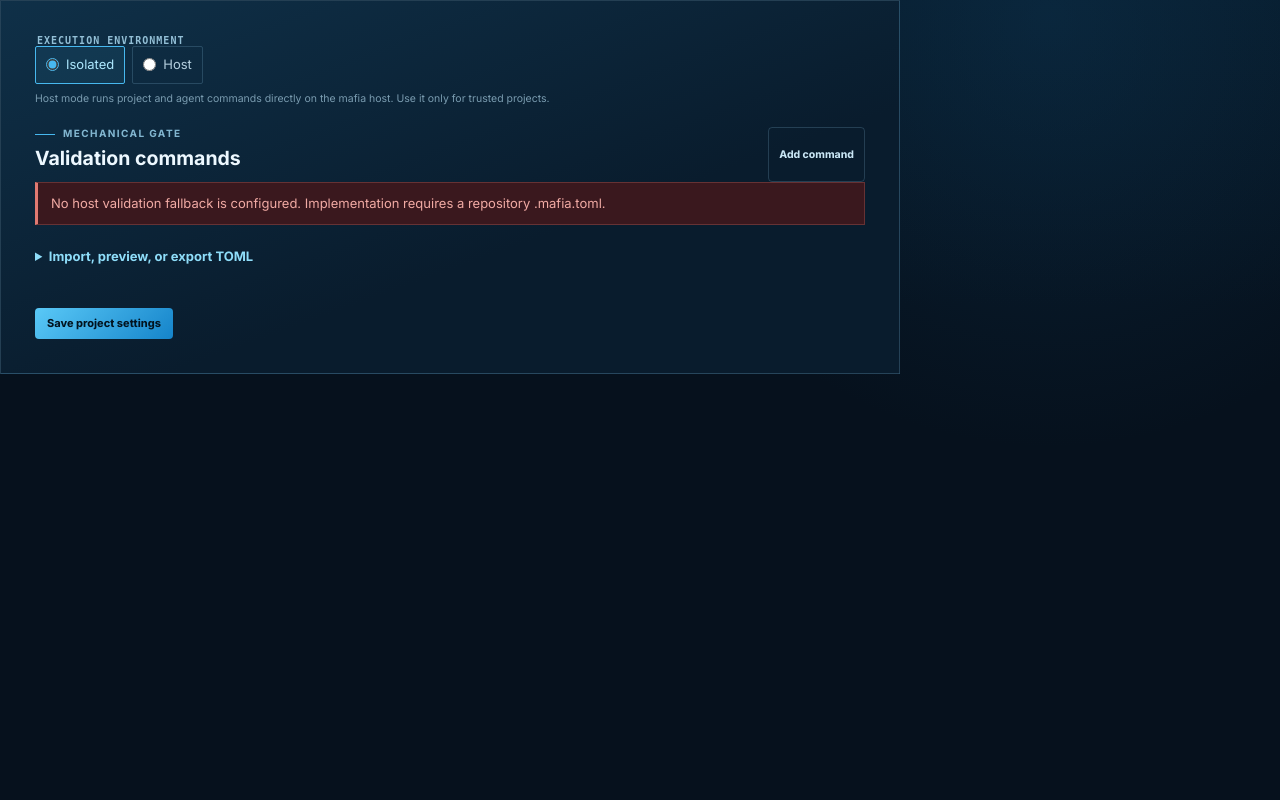
ProjectSettingsForm › rejects timeout 0 before submission
This screenshot has width=1280, height=800.
Click the button "Add command". click: (817, 154)
box: [768,127,865,182]
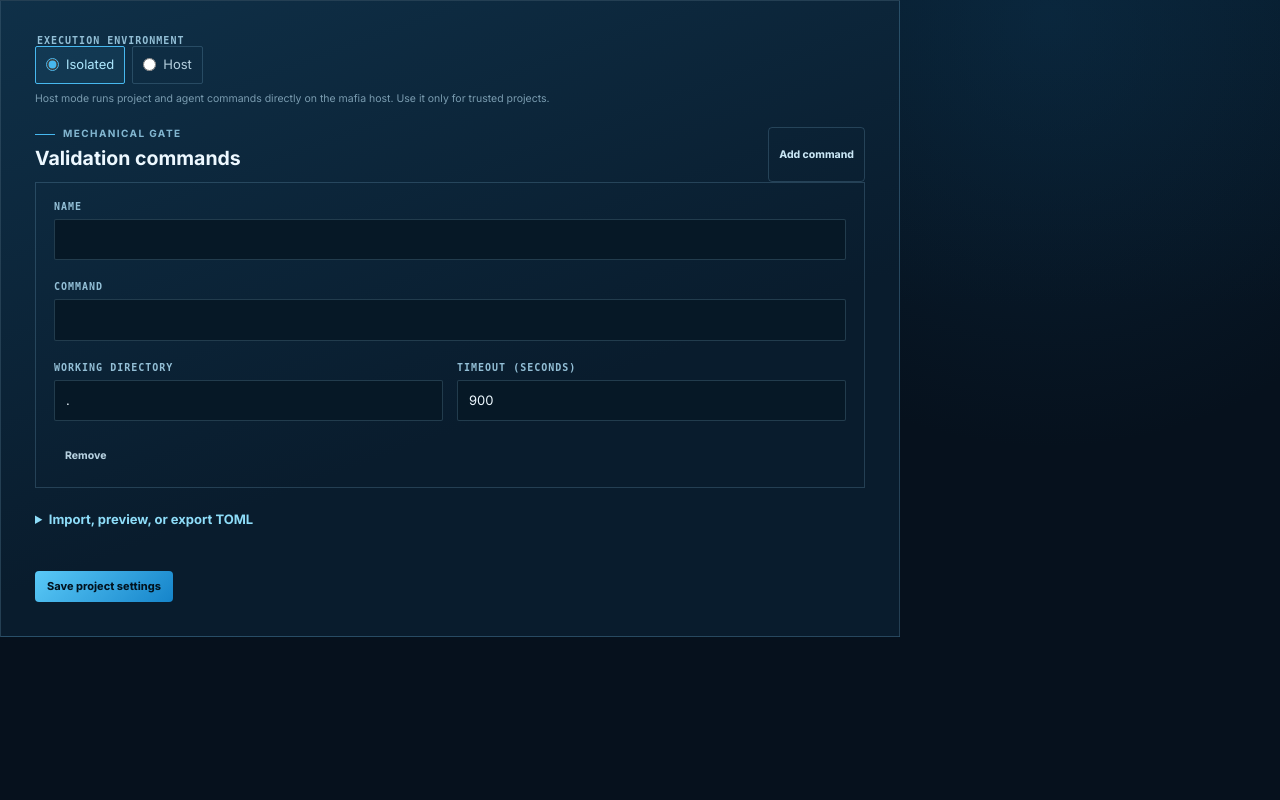
Replace the text in the number field labelled "Timeout (seconds)" with "0". click: (652, 400)
box: [457,380,846,421]
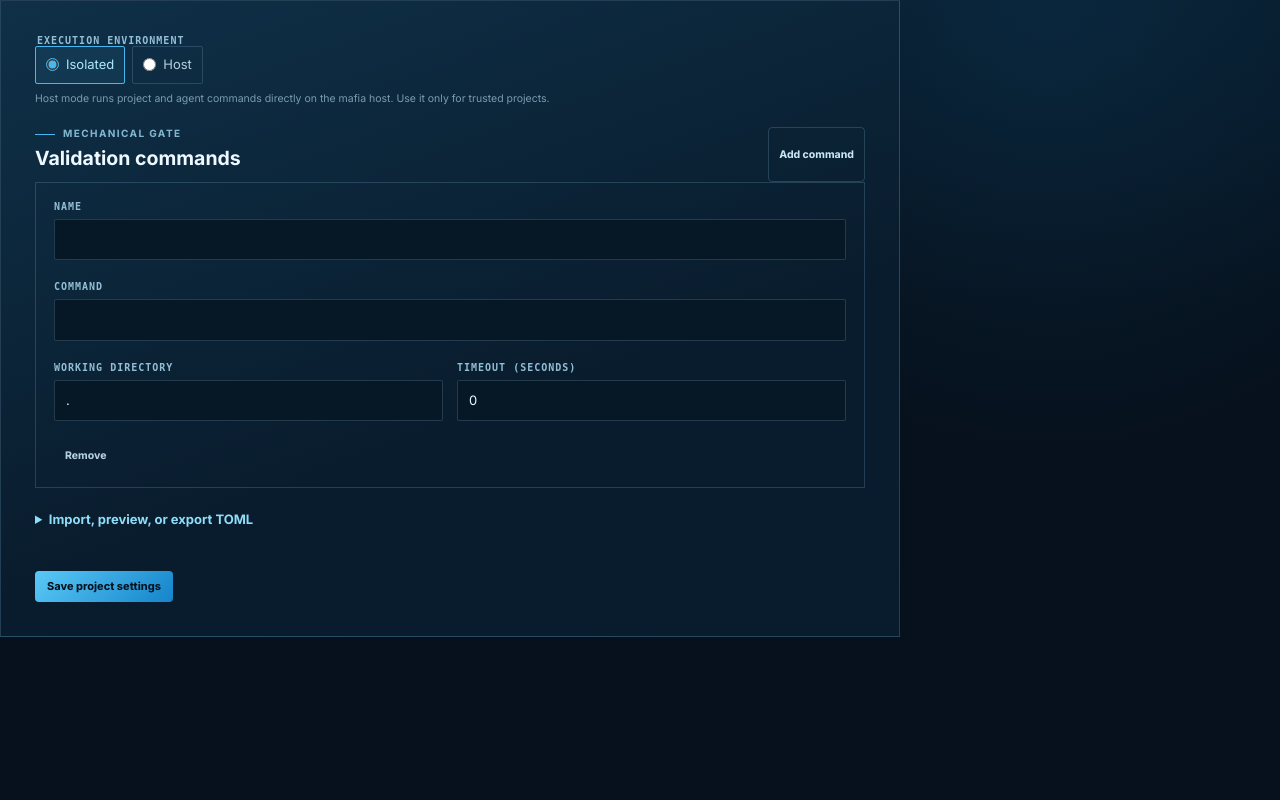
Click the button "Save project settings". click: (104, 586)
box: [35,570,173,602]
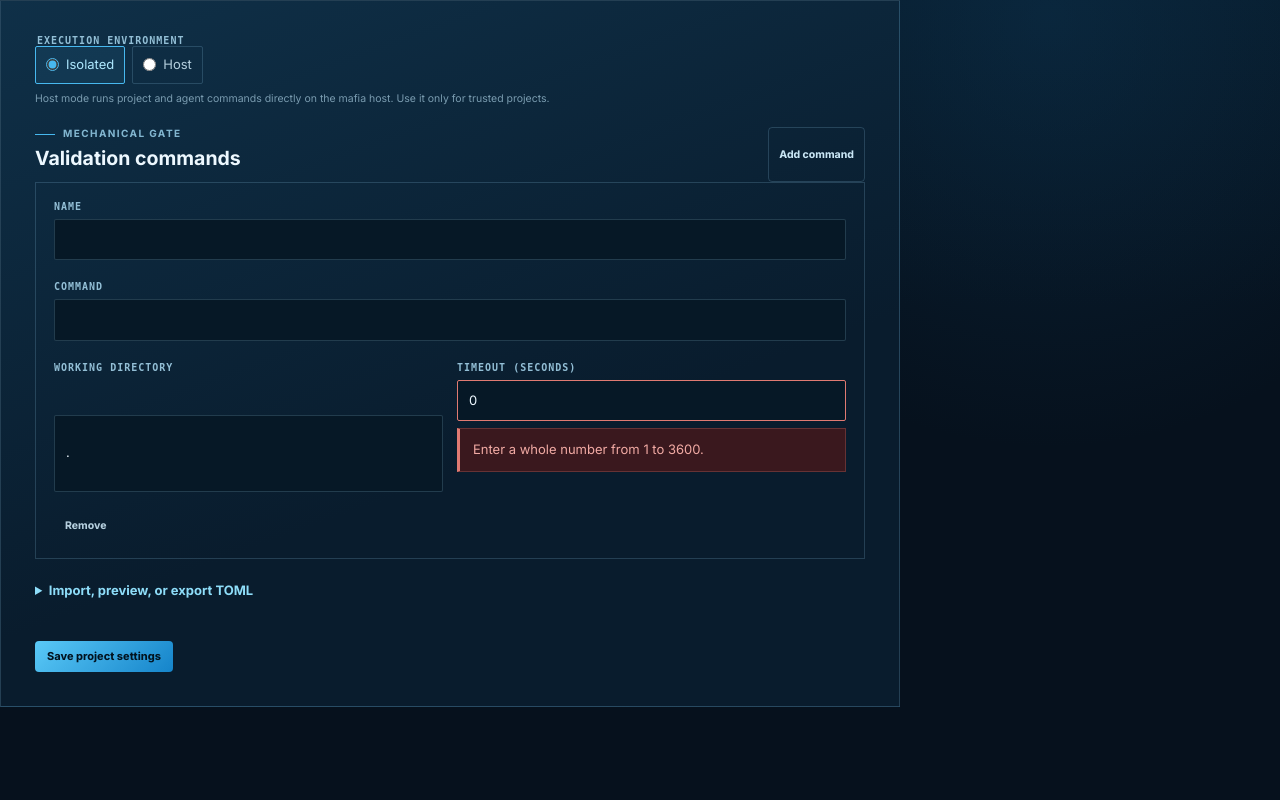
Expected: the message shows "whole number from 1 to 3600", [473,441,704,457]
